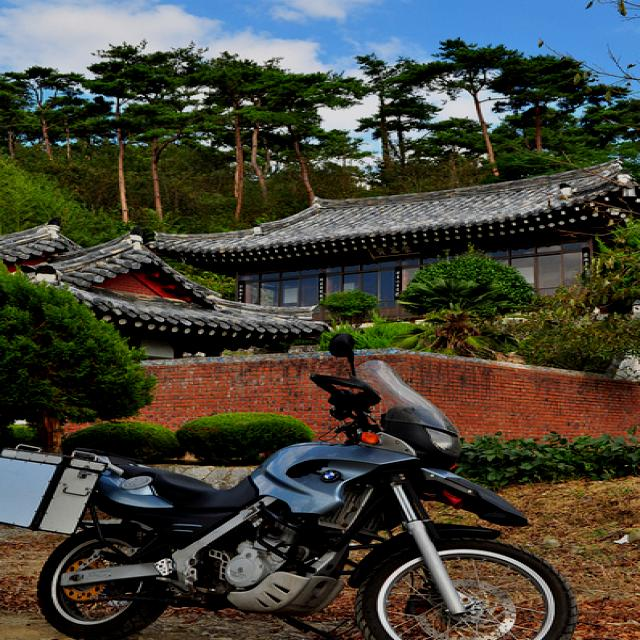Vehicle: (0, 334, 582, 640)
